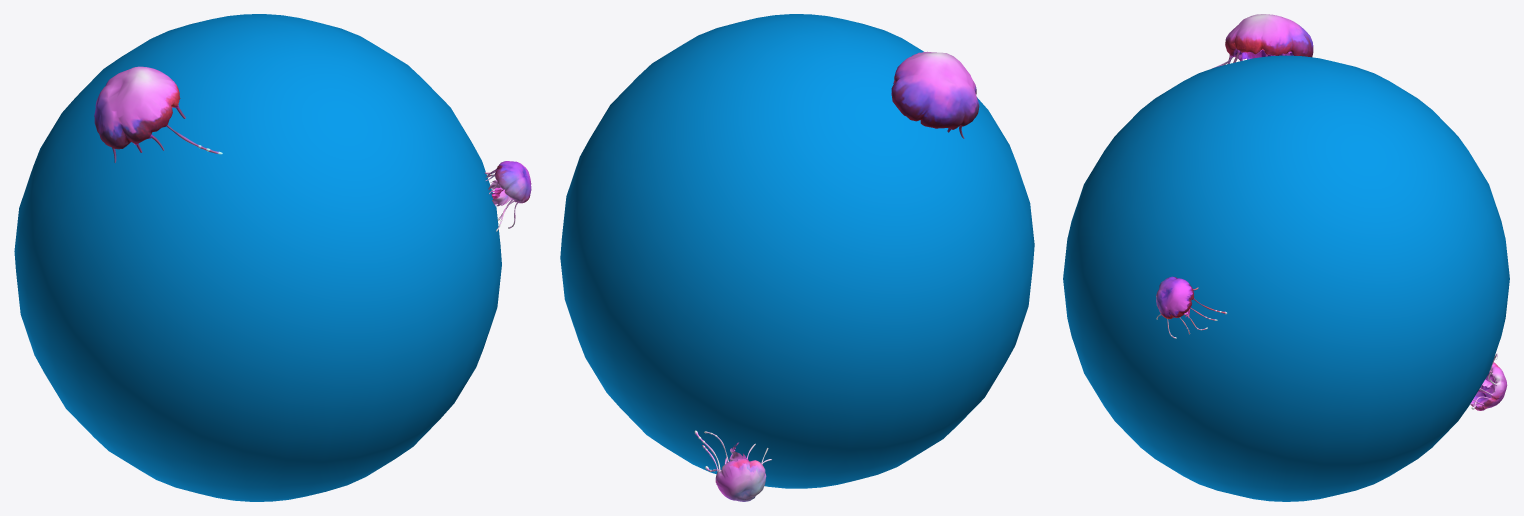
Rendered from Giants deep_compressed.glb.
3 views of the same model, side by side, from view 1: azimuth 30°, elevation 25°; view 2: azimuth 150°, elevation 25°; view 3: azimuth 270°, elevation 25° (orthographic). The views are drawn at different scales.
Parts seen in each view (by area): view 1: Ocean_Core, jellies.001, jellies; view 2: Ocean_Core, jellies.001, jellies.002; view 3: Ocean_Core, jellies.001, jellies, jellies.002.
Boxes of the visible parts, x1,y1,x2,y2 form: Ocean_Core: [14, 14, 501, 501]; jellies.001: [94, 66, 222, 162]; jellies: [485, 161, 531, 231]; Ocean_Core: [560, 14, 1034, 488]; jellies.001: [891, 51, 979, 138]; jellies.002: [694, 430, 771, 501]; Ocean_Core: [1063, 55, 1509, 501]; jellies.001: [1212, 14, 1313, 68]; jellies: [1156, 276, 1227, 338]; jellies.002: [1470, 353, 1507, 410].
Size of the model in its own units: 3.52 by 3.56 by 3.52.
Materials: 5 (2 with a texture image).
